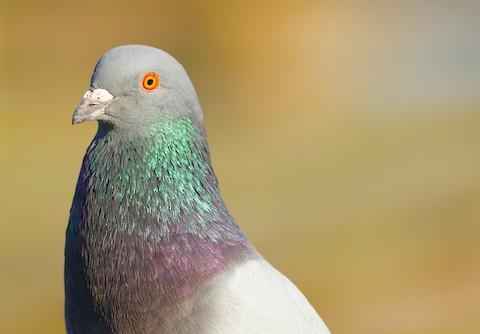pigeon: (58, 39, 335, 329)
